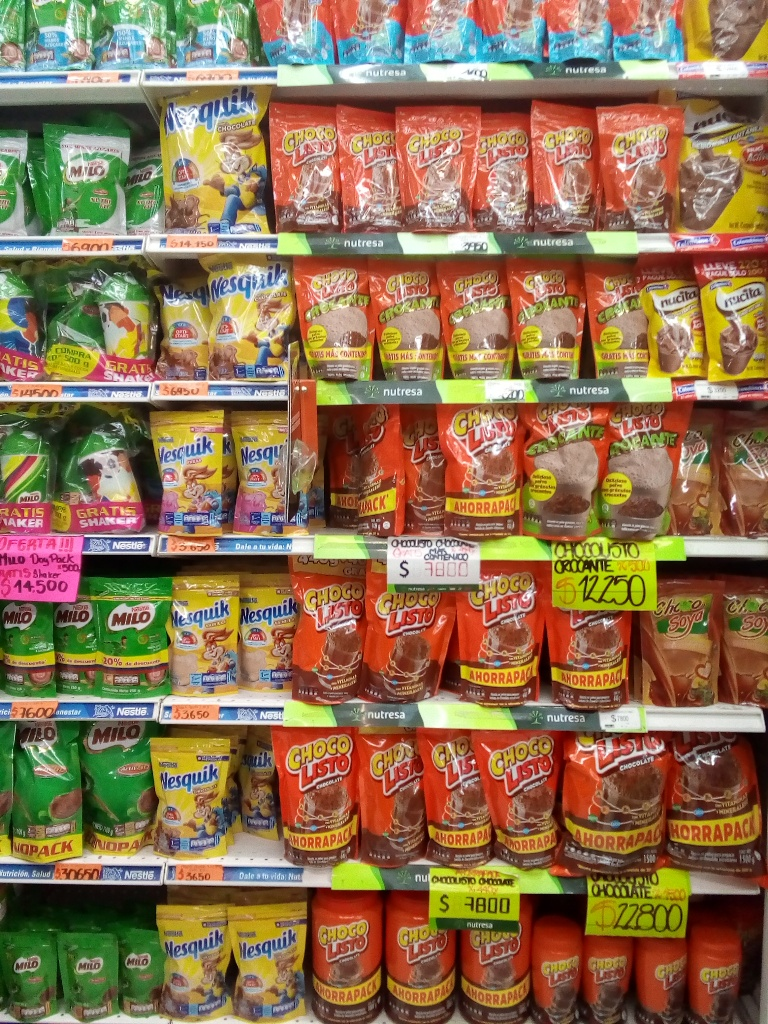COL0170102DYP25000: (286, 255, 378, 385)
COL0170102DYP50000: (611, 398, 701, 540)
COL0170103DYP1,500: (659, 728, 764, 885)
COL0170103DYP20000: (264, 98, 345, 238)
COL0170103DYP44000: (480, 726, 562, 874)
COL0170103TRR00100: (309, 889, 381, 1021)
COL0170103TRR30000: (531, 918, 580, 1023)
COL0170203DYP10000: (2, 932, 61, 1020)
COL0170203DYP25000: (89, 571, 173, 696)
COL0170203DYP50000: (28, 256, 108, 384)
COL0170205DYP20000: (39, 109, 135, 238)
COL0170303DYP20000: (223, 896, 309, 1020)
COL0170305DYP20000: (146, 409, 226, 539)
COL0170306DYP20000: (164, 574, 243, 697)
